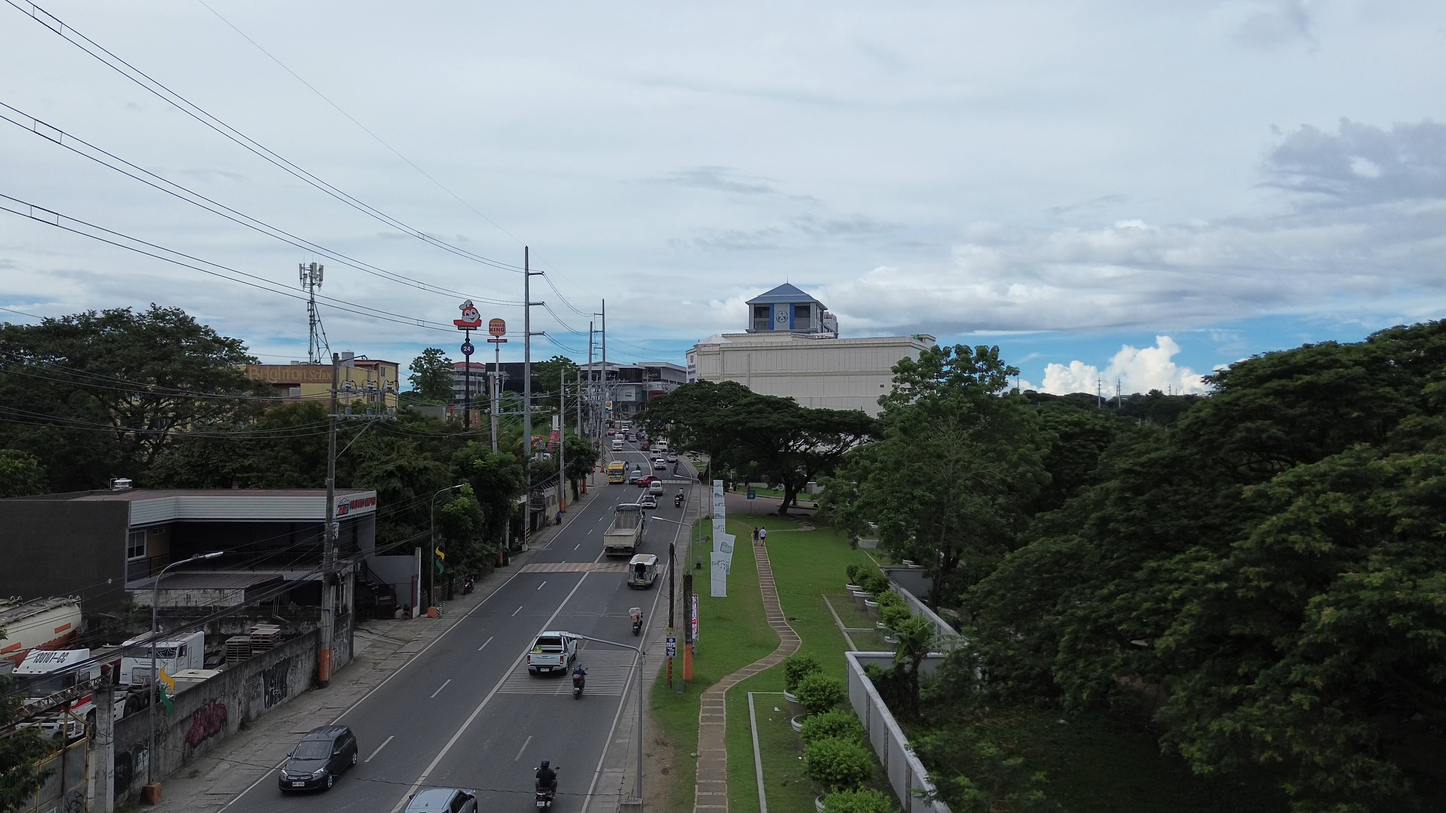car: (404, 788, 479, 813), (630, 475, 661, 487), (629, 469, 645, 486), (648, 478, 664, 495), (639, 494, 657, 509), (665, 452, 678, 463), (639, 440, 650, 451)
motorcycle: (535, 781, 555, 808), (630, 607, 643, 636), (572, 672, 584, 699), (463, 577, 473, 595), (674, 492, 683, 507)
vehicle: (0, 597, 81, 666), (278, 726, 358, 791), (14, 649, 101, 704), (526, 631, 578, 674), (604, 504, 645, 556), (119, 633, 151, 685), (627, 554, 658, 589), (535, 768, 555, 809), (571, 665, 586, 699), (629, 607, 643, 636), (607, 462, 626, 483), (634, 475, 661, 487), (648, 479, 664, 498), (639, 494, 657, 509), (653, 457, 668, 470), (628, 469, 642, 482), (674, 490, 684, 507), (611, 438, 623, 450), (639, 440, 650, 451), (625, 432, 636, 442), (606, 428, 616, 436)
